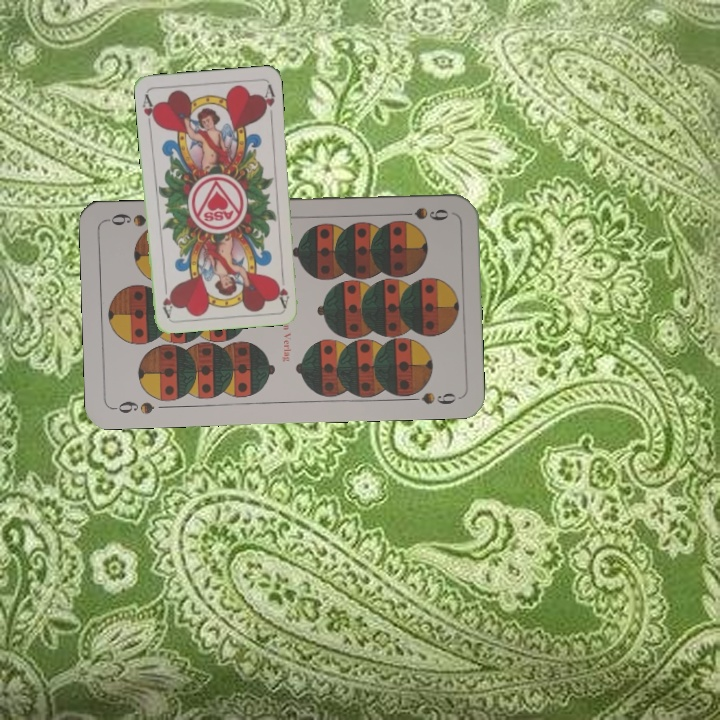HA: (138, 90, 159, 130), (273, 268, 292, 309)
S9: (394, 203, 451, 224), (109, 397, 157, 417)
